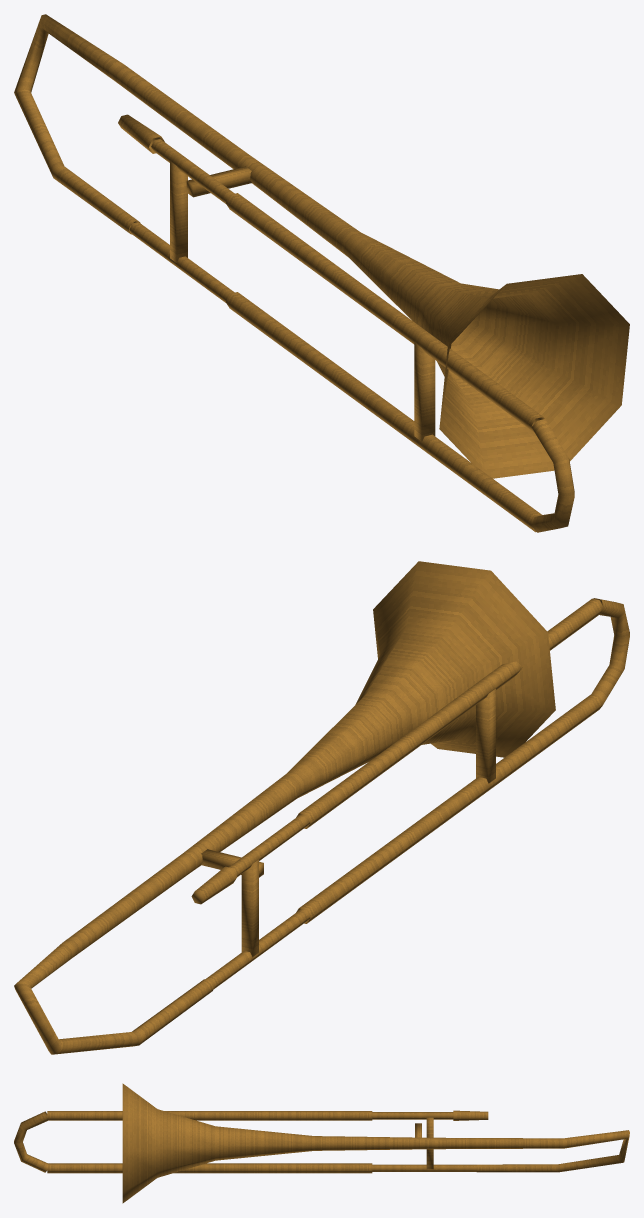
File: trombone_3.glb
3 views of the same model, one above another, from view 1: azimuth 30°, elevation 25°; view 2: azimuth 150°, elevation 25°; view 3: azimuth 270°, elevation 25° (orthographic). The views are drawn at different scales.
Visible parts, largest first — view 1: trombone_3, trombone_3_slide; view 2: trombone_3, trombone_3_slide; view 3: trombone_3, trombone_3_slide.
Boxes of the visible parts, x1,y1,x2,y2 form: trombone_3: (14, 14, 629, 478); trombone_3_slide: (226, 193, 574, 532); trombone_3: (14, 561, 555, 1054); trombone_3_slide: (296, 598, 629, 923); trombone_3: (122, 1083, 629, 1203); trombone_3_slide: (14, 1111, 372, 1173).
Size of the model in its own units: 0.2015 by 0.2015 by 1.06.
Materials: 1 (1 with a texture image).
